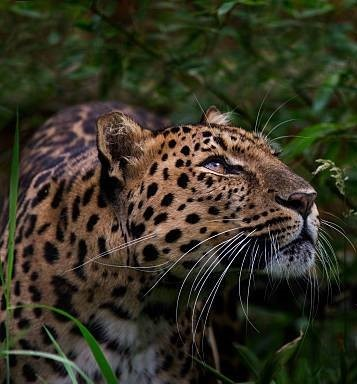amur_leopard: (32, 77, 335, 309)
